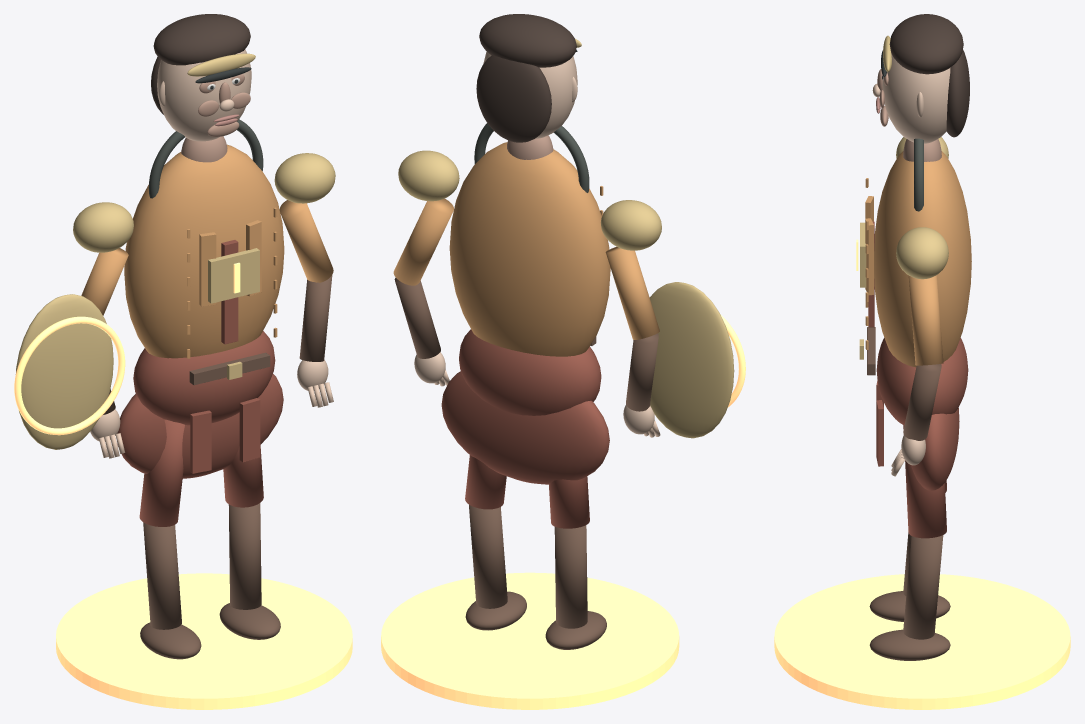
Rendered from ember-guardian.glb.
The picture shows the model from 3 angles, left to right: view 1: azimuth 30°, elevation 25°; view 2: azimuth 150°, elevation 25°; view 3: azimuth 270°, elevation 25°; orthographic projection.
Parts seen in each view (by area): view 1: ember-guardian_table_scale_base, ember-guardian_ribcage, ember-guardian_round_shield, ember-guardian_pelvis, ember-guardian_coat_tail, ember-guardian_head, ember-guardian_hair_cap, ember-guardian_left_shin, ember-guardian_right_shin, ember-guardian_left_thigh, ember-guardian_shield_ring, ember-guardian_left_shoulder (+19 smaller); view 2: ember-guardian_table_scale_base, ember-guardian_ribcage, ember-guardian_coat_tail, ember-guardian_round_shield, ember-guardian_pelvis, ember-guardian_back_hair_mass, ember-guardian_hair_cap, ember-guardian_left_shin, ember-guardian_right_shin, ember-guardian_left_upper_arm, ember-guardian_right_upper_arm, ember-guardian_right_shoulder (+13 smaller); view 3: ember-guardian_table_scale_base, ember-guardian_ribcage, ember-guardian_head, ember-guardian_pelvis, ember-guardian_hair_cap, ember-guardian_right_shin, ember-guardian_right_upper_arm, ember-guardian_coat_tail, ember-guardian_right_thigh, ember-guardian_right_shoulder, ember-guardian_right_forearm, ember-guardian_right_boot (+7 smaller).
Part boxes in pixels (left/top/right/bottom): ember-guardian_table_scale_base: left=56, top=573, right=352, bottom=709; ember-guardian_ribcage: left=124, top=144, right=284, bottom=358; ember-guardian_round_shield: left=15, top=294, right=113, bottom=449; ember-guardian_pelvis: left=133, top=331, right=275, bottom=425; ember-guardian_coat_tail: left=117, top=374, right=283, bottom=478; ember-guardian_head: left=157, top=49, right=251, bottom=141; ember-guardian_hair_cap: left=153, top=14, right=250, bottom=65; ember-guardian_left_shin: left=143, top=522, right=181, bottom=629; ember-guardian_right_shin: left=228, top=503, right=261, bottom=609; ember-guardian_left_thigh: left=139, top=419, right=184, bottom=526; ember-guardian_shield_ring: left=14, top=316, right=125, bottom=435; ember-guardian_left_shoulder: left=73, top=202, right=133, bottom=252; ember-guardian_table_scale_base: left=381, top=572, right=679, bottom=709; ember-guardian_ribcage: left=449, top=142, right=610, bottom=356; ember-guardian_coat_tail: left=441, top=371, right=609, bottom=484; ember-guardian_round_shield: left=649, top=282, right=734, bottom=438; ember-guardian_pelvis: left=459, top=329, right=601, bottom=415; ember-guardian_back_hair_mass: left=476, top=55, right=551, bottom=142; ember-guardian_hair_cap: left=479, top=14, right=576, bottom=67; ember-guardian_left_shin: left=554, top=525, right=587, bottom=628; ember-guardian_right_shin: left=469, top=505, right=507, bottom=608; ember-guardian_left_upper_arm: left=605, top=246, right=659, bottom=339; ember-guardian_right_upper_arm: left=393, top=198, right=453, bottom=285; ember-guardian_right_shoulder: left=398, top=150, right=459, bottom=201; ember-guardian_table_scale_base: left=774, top=574, right=1070, bottom=709; ember-guardian_ribcage: left=874, top=151, right=971, bottom=367; ember-guardian_head: left=882, top=53, right=950, bottom=143; ember-guardian_pelvis: left=876, top=337, right=968, bottom=425; ember-guardian_hair_cap: left=889, top=14, right=963, bottom=74; ember-guardian_right_shin: left=903, top=535, right=943, bottom=639; ember-guardian_right_upper_arm: left=908, top=275, right=943, bottom=365; ember-guardian_coat_tail: left=903, top=408, right=959, bottom=490; ember-guardian_right_thigh: left=903, top=425, right=946, bottom=538; ember-guardian_right_shoulder: left=896, top=227, right=948, bottom=279; ember-guardian_right_forearm: left=903, top=364, right=941, bottom=440; ember-guardian_right_boot: left=869, top=629, right=950, bottom=660.
Bounding box in the file's own units: 1.09 × 1.95 × 0.84.
